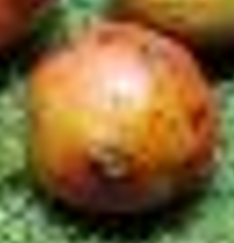pomegranate_B: (27, 20, 218, 215)
